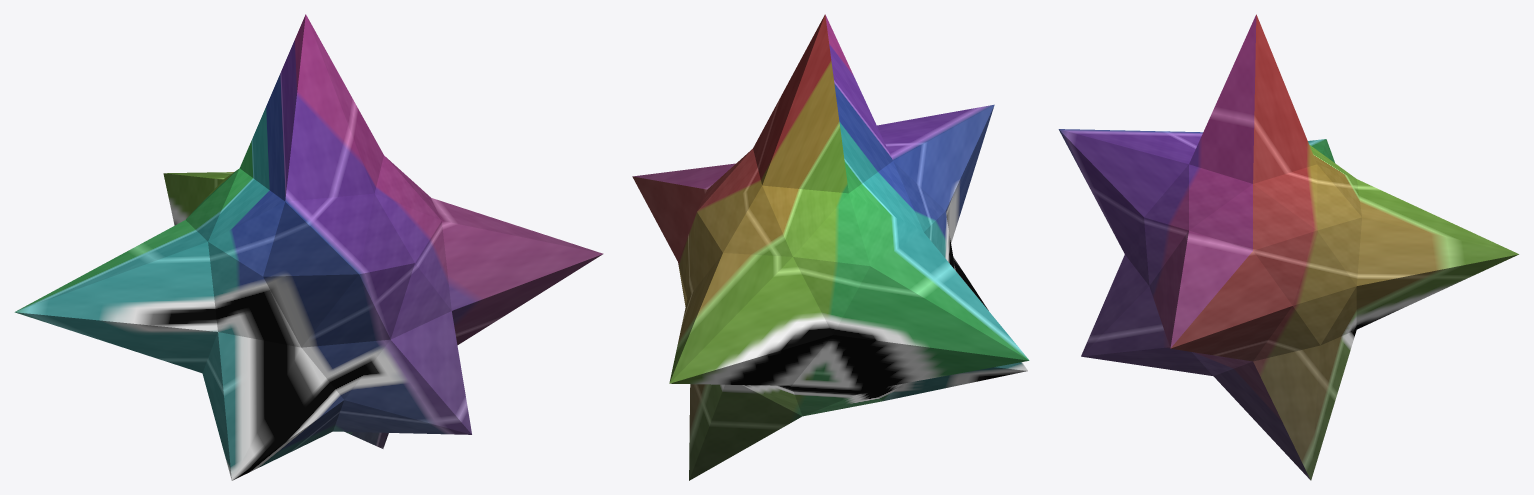
Rendered from spiker.obj.
3 views of the same model, side by side, from view 1: azimuth 30°, elevation 25°; view 2: azimuth 150°, elevation 25°; view 3: azimuth 270°, elevation 25° (orthographic). The views are drawn at different scales.
Visible parts, largest first — view 1: spiker; view 2: spiker; view 3: spiker.
Part boxes in pixels (x1,y1,x2,y2): spiker: (14,14,603,480); spiker: (632,14,1029,480); spiker: (1058,14,1518,480).
Size of the model in its own units: 1.55 by 1.44 by 1.43.
1 material, 1 textured.
